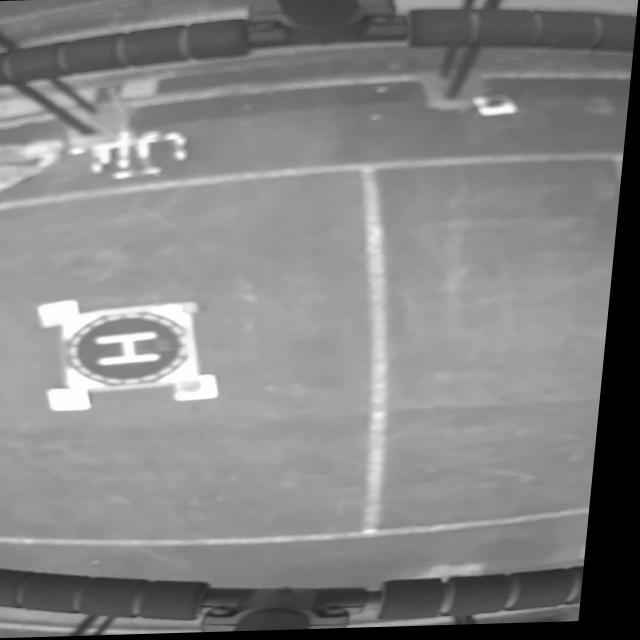Helipad: (102, 331, 170, 366)
